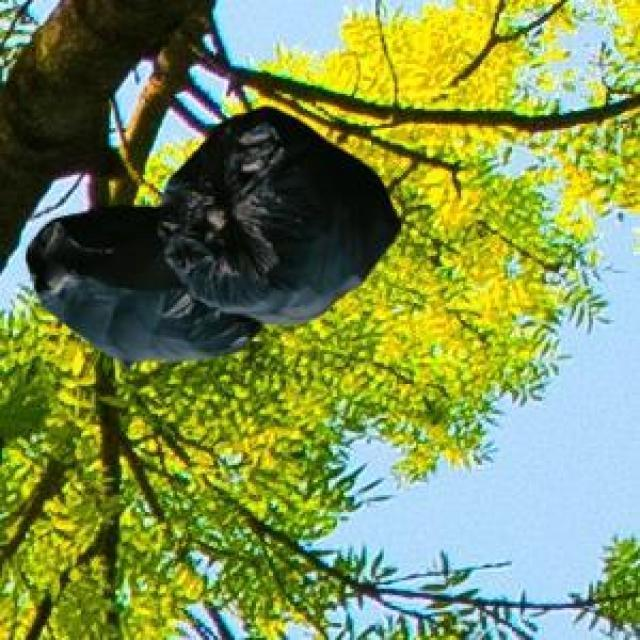miscellaneous trash: (21, 102, 397, 361)
